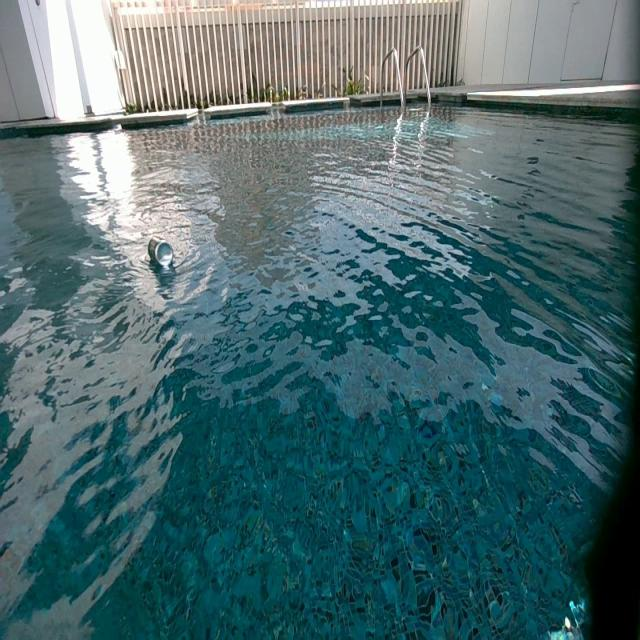Cans: (147, 238, 173, 267)
